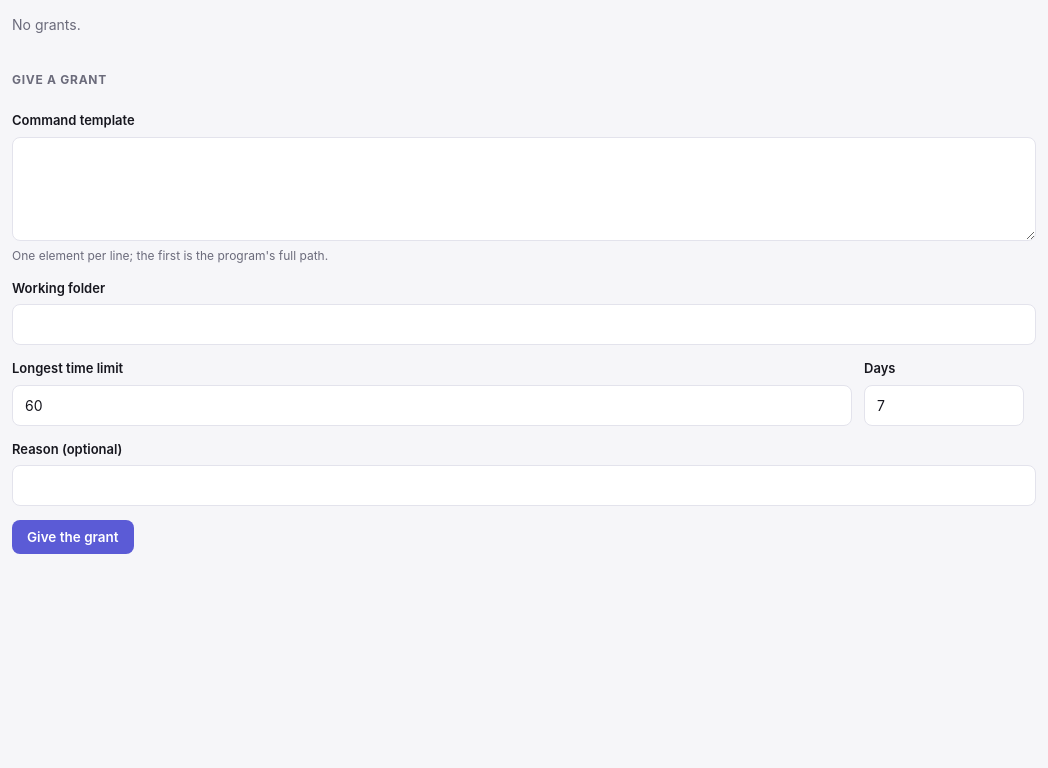
Test: the grant form › refuses a 0 days as out of range
In the text box: (524, 188) [12,136,1036,240], type "/bin/true"
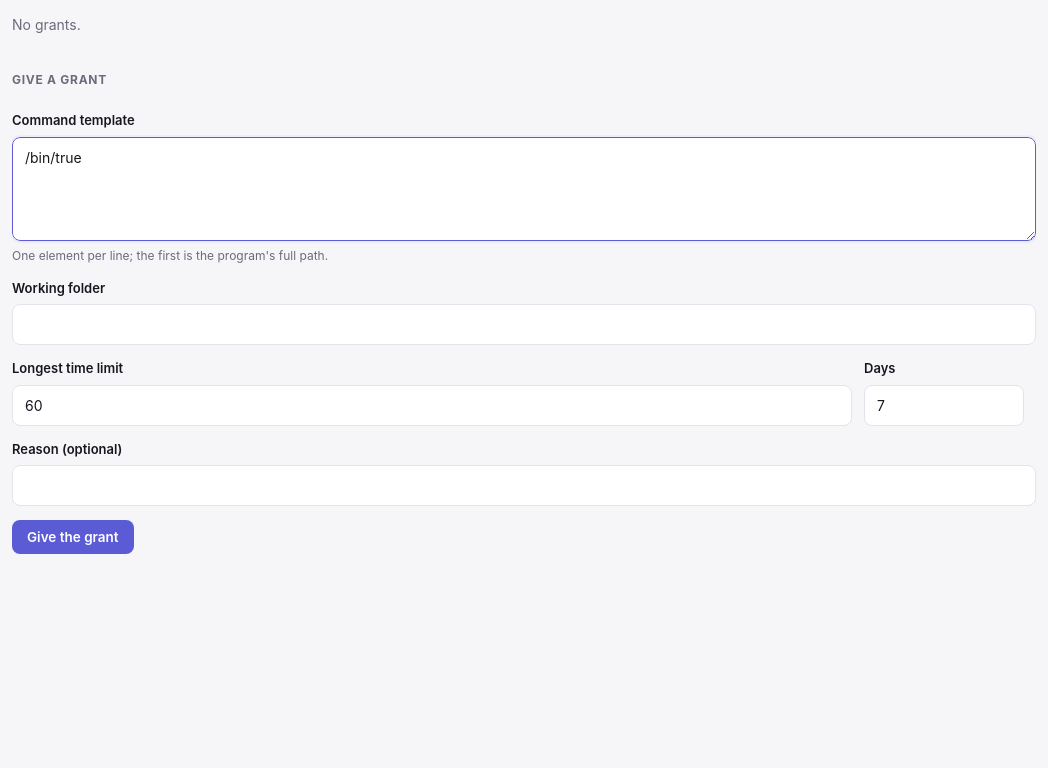
In the field labelled "Working folder": (524, 324) [12,304,1036,345], type "/x"
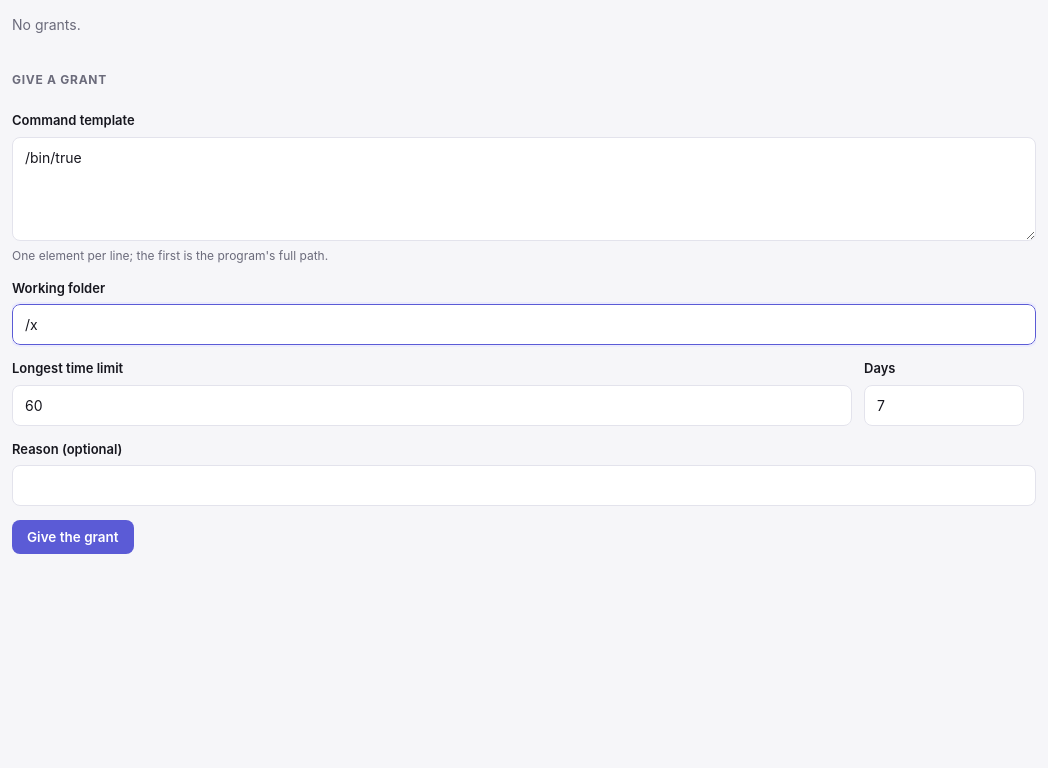
Replace the text in the number field labelled "Days" with "0": (944, 405) [864,384,1024,426]
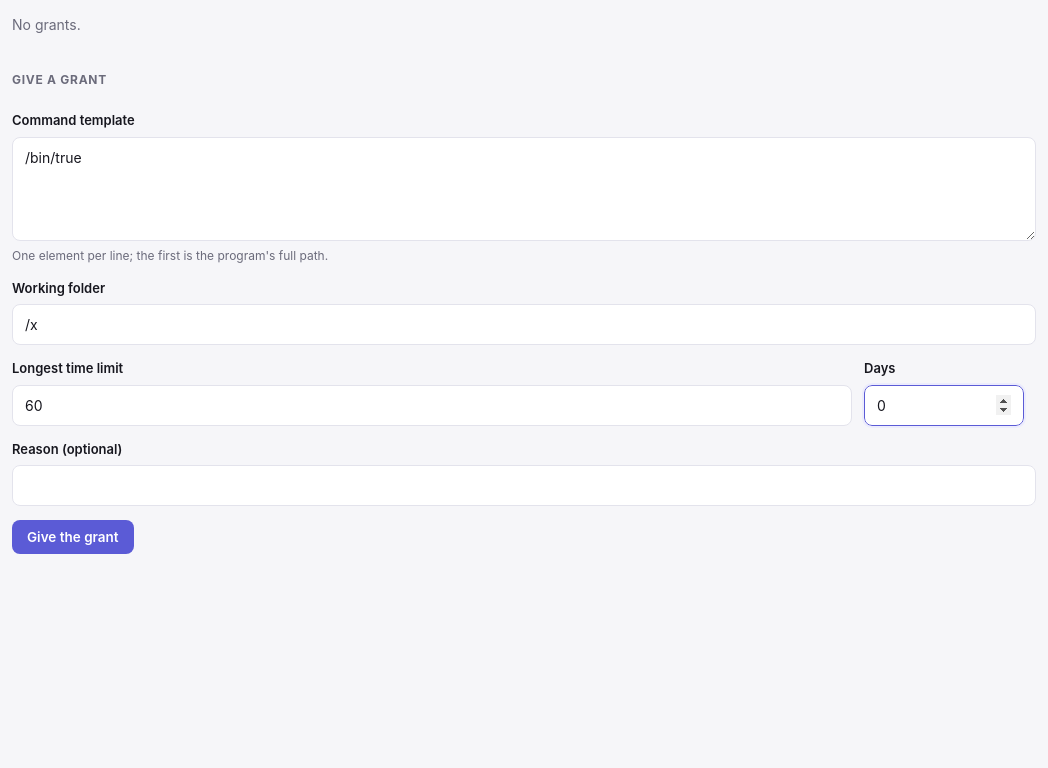
Click the button "Give the grant": (73, 537) [12,520,134,554]
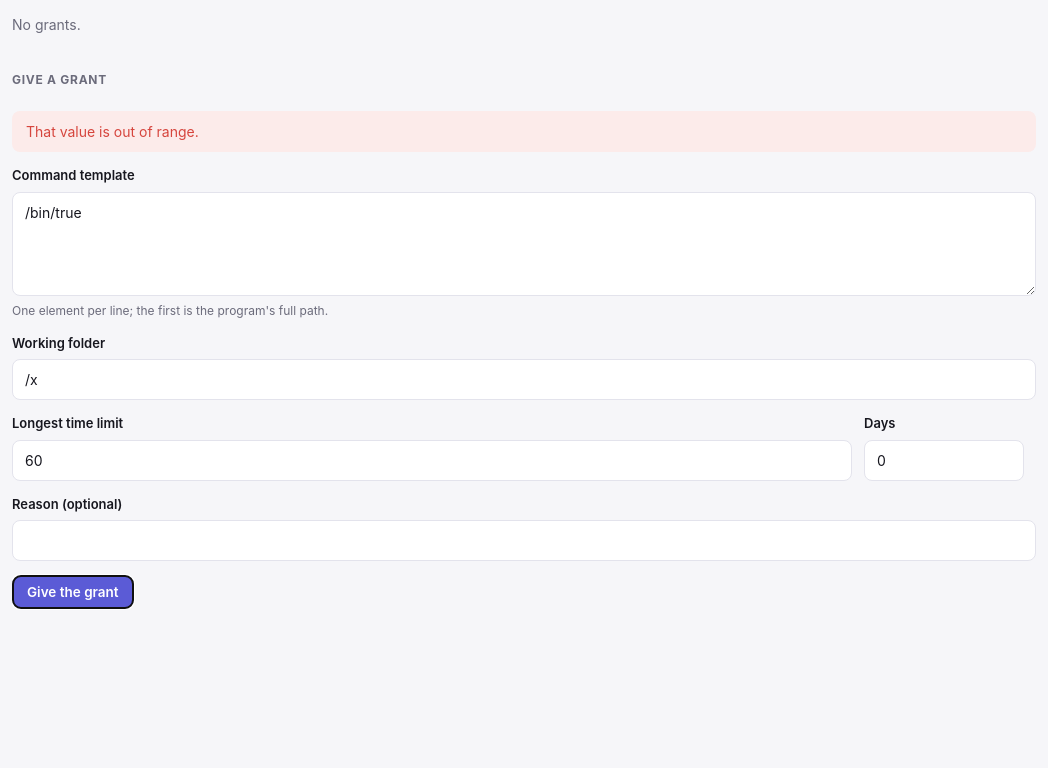
Now the text "That value is out of range." is shown, box [12,111,1036,152]
